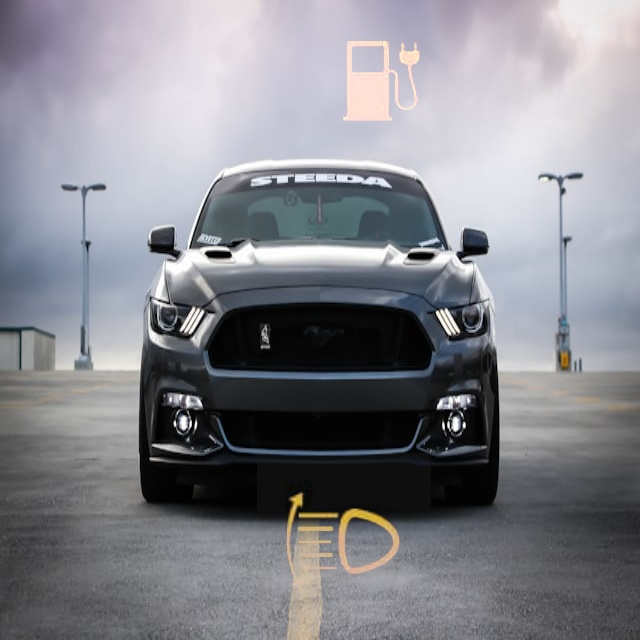symbol: (257, 453, 431, 627), (301, 2, 462, 163)
